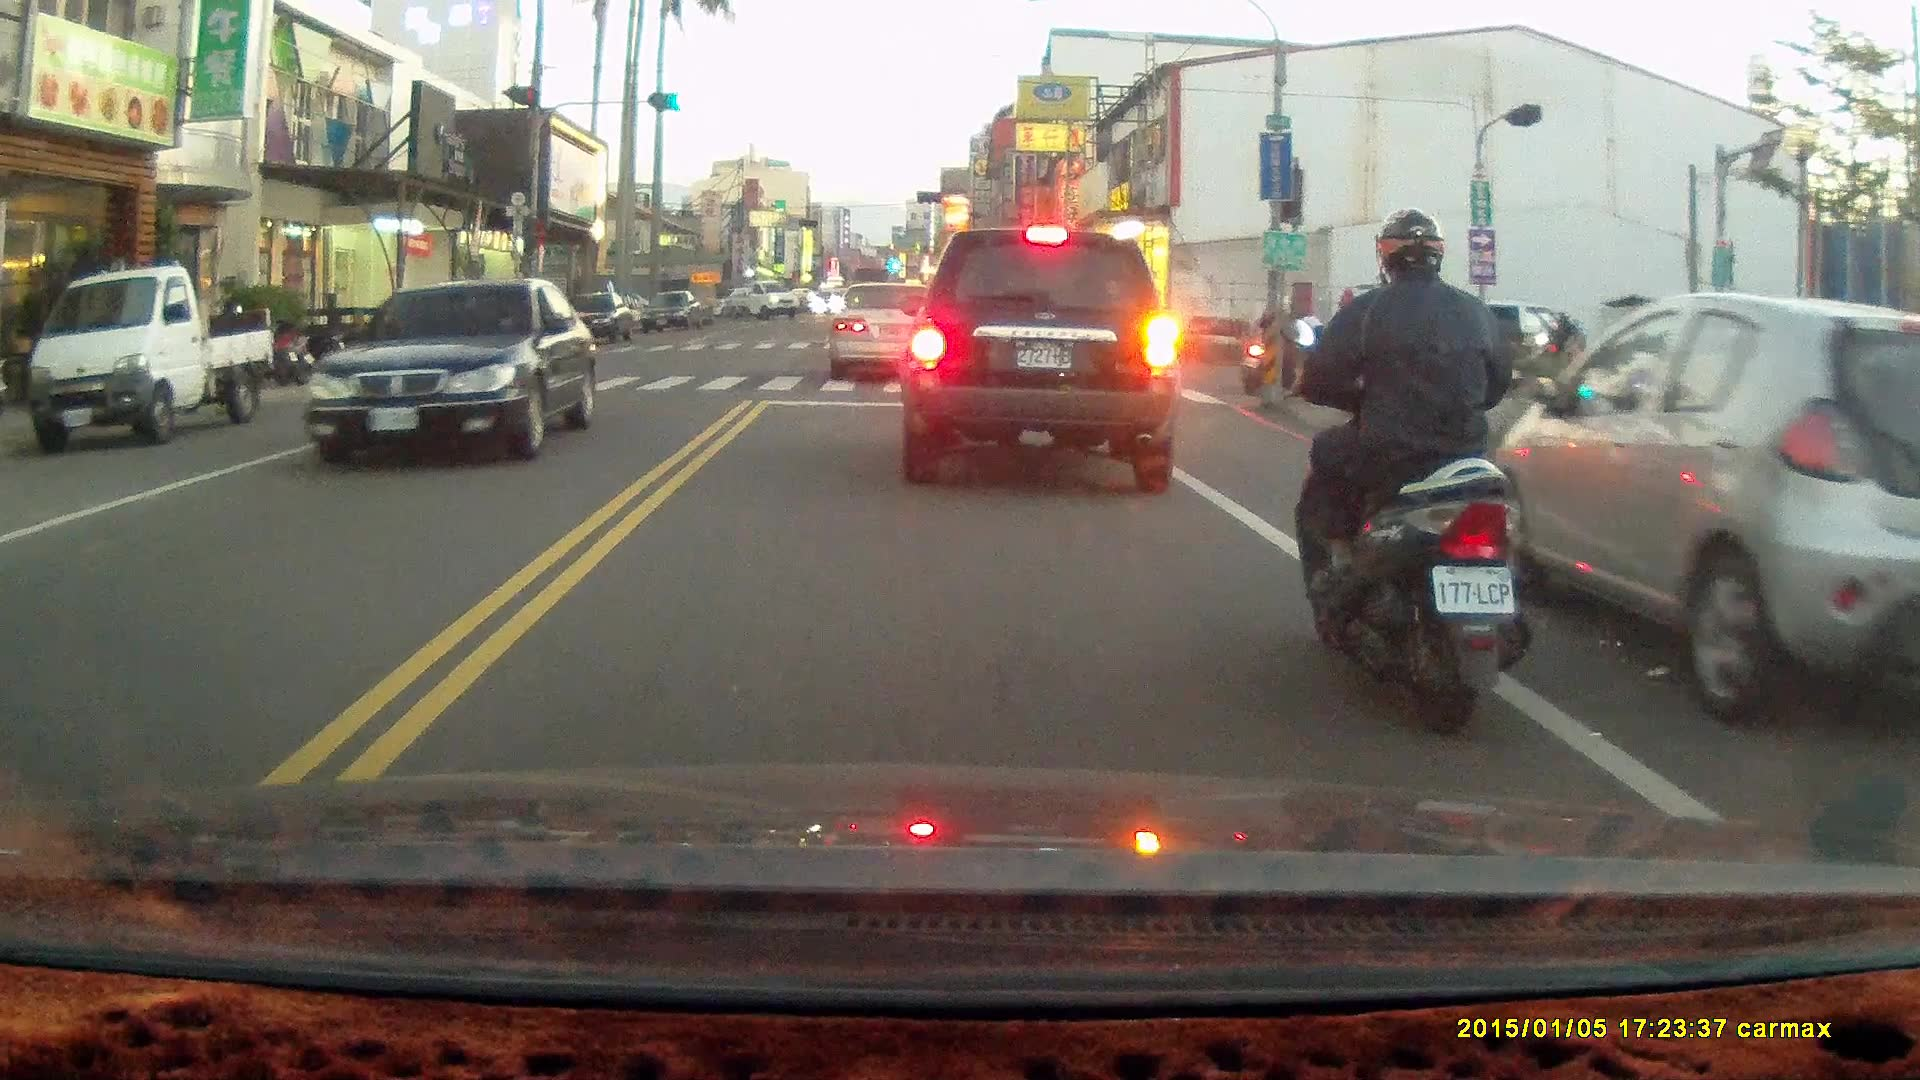rider: (1280, 203, 1541, 737), (1241, 296, 1323, 396), (1519, 311, 1589, 393)
vehicle: (1492, 295, 1920, 727), (897, 225, 1181, 497), (296, 277, 602, 466), (11, 268, 272, 455), (829, 282, 940, 381), (556, 291, 639, 348), (638, 291, 707, 336)
